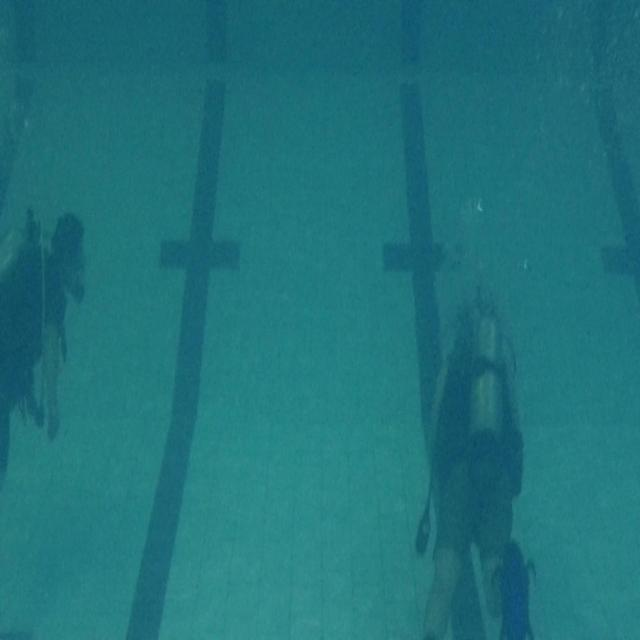human: (384, 78, 537, 638), (414, 288, 536, 638), (0, 205, 86, 482)
